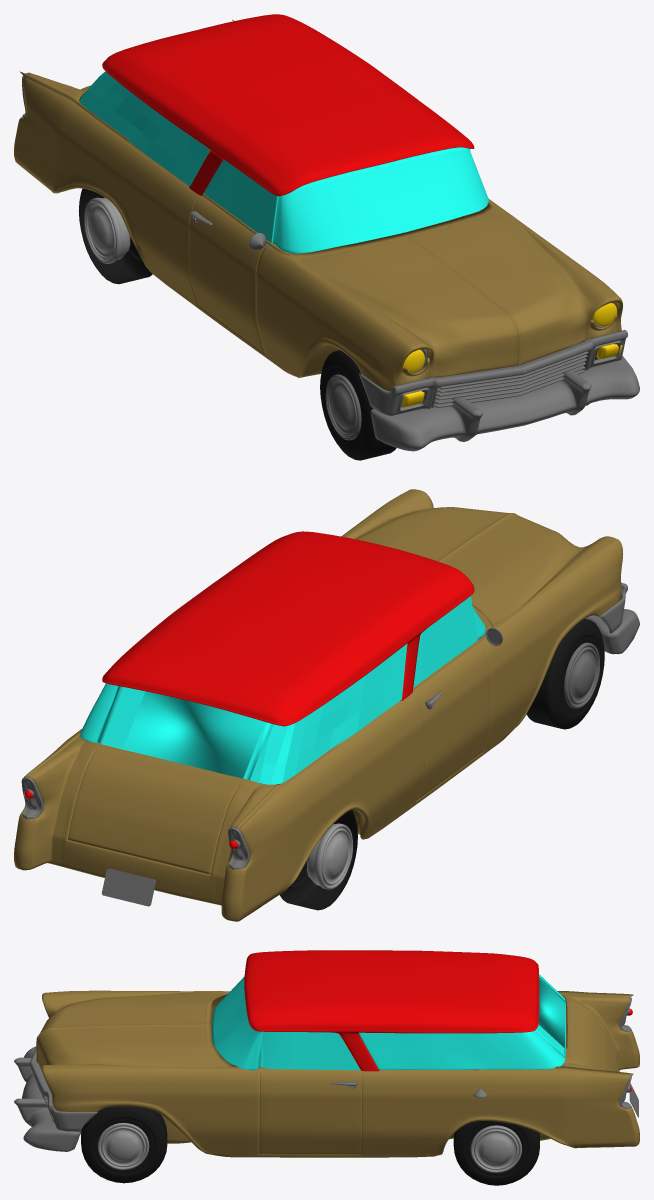
Rendered from oldcar.fbx.
The picture shows the model from 3 angles, top to bottom: view 1: azimuth 30°, elevation 25°; view 2: azimuth 150°, elevation 25°; view 3: azimuth 270°, elevation 25°; orthographic projection. The views are drawn at different scales.
Parts seen in each view (by area): view 1: L_Front_Tire, R_Front_Tire1, R_Front_HubCap; view 2: L_Front_Tire, R_Front_Tire1, R_Front_HubCap; view 3: L_Front_Tire, L_Front_Tire.001, L_front_Hubcap.
Boxes of the visible parts, bbox=[...] form: L_Front_Tire: bbox=[14, 14, 639, 451]; R_Front_Tire1: bbox=[320, 350, 396, 460]; R_Front_HubCap: bbox=[325, 374, 361, 440]; L_Front_Tire: bbox=[14, 489, 639, 921]; R_Front_Tire1: bbox=[526, 619, 604, 729]; R_Front_HubCap: bbox=[564, 642, 599, 708]; L_Front_Tire: bbox=[14, 950, 639, 1185]; L_Front_Tire.001: bbox=[81, 1106, 167, 1183]; L_front_Hubcap: bbox=[97, 1122, 149, 1169].
Size of the model in its own units: 839 by 698 by 2356.
